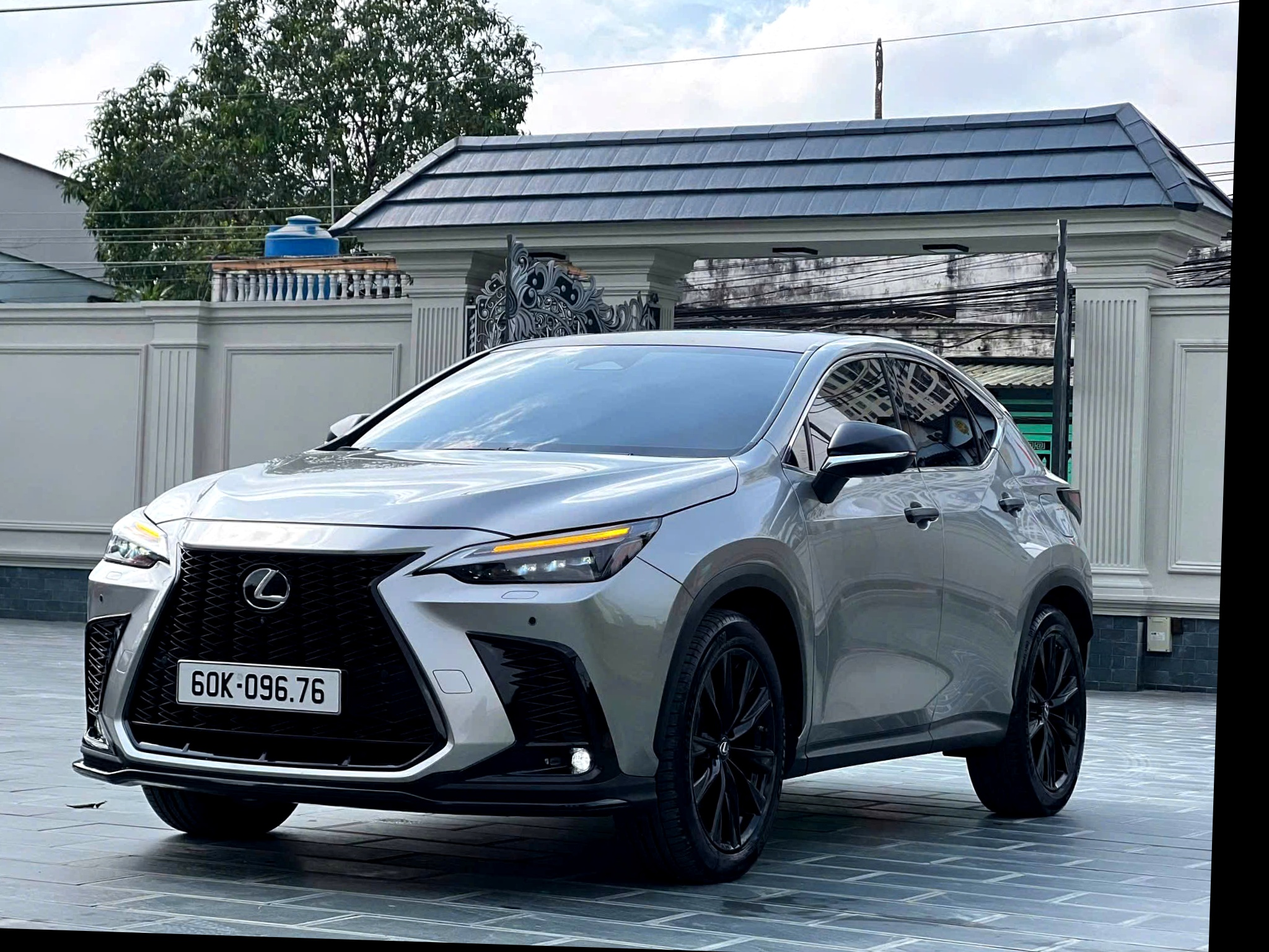Bien-so: (175, 662, 349, 716)
